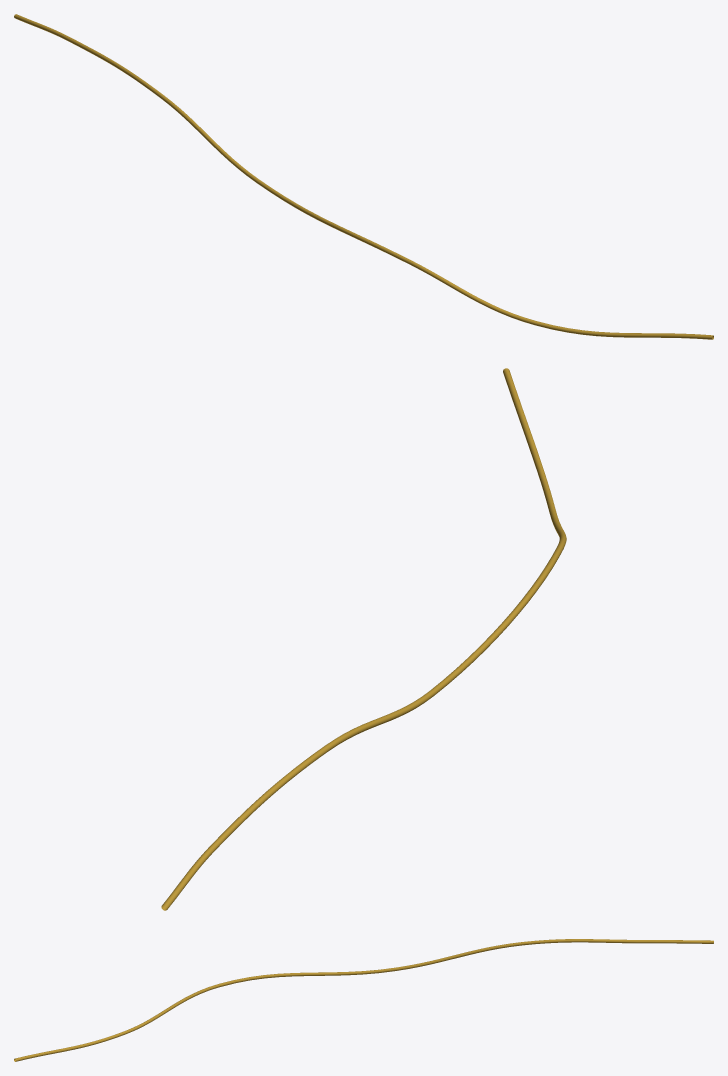
3 views of the same model, one above another, from view 1: azimuth 30°, elevation 25°; view 2: azimuth 150°, elevation 25°; view 3: azimuth 270°, elevation 25° (orthographic). The views are drawn at different scales.
Visible parts, largest first — view 1: 右侧前臂内侧皮神经; view 2: 右侧前臂内侧皮神经; view 3: 右侧前臂内侧皮神经.
Part boxes in pixels (left/top/right/bottom): 右侧前臂内侧皮神经: left=14, top=14, right=713, bottom=339; 右侧前臂内侧皮神经: left=161, top=368, right=566, bottom=910; 右侧前臂内侧皮神经: left=14, top=939, right=713, bottom=1061.
Bounding box in the file's own units: 0.0896 × 0.0251 × 0.2999.
